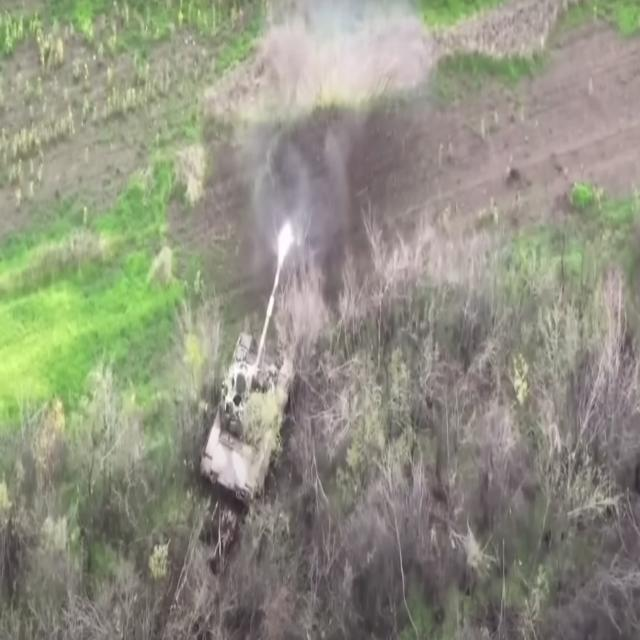MBT: (198, 244, 299, 514)
